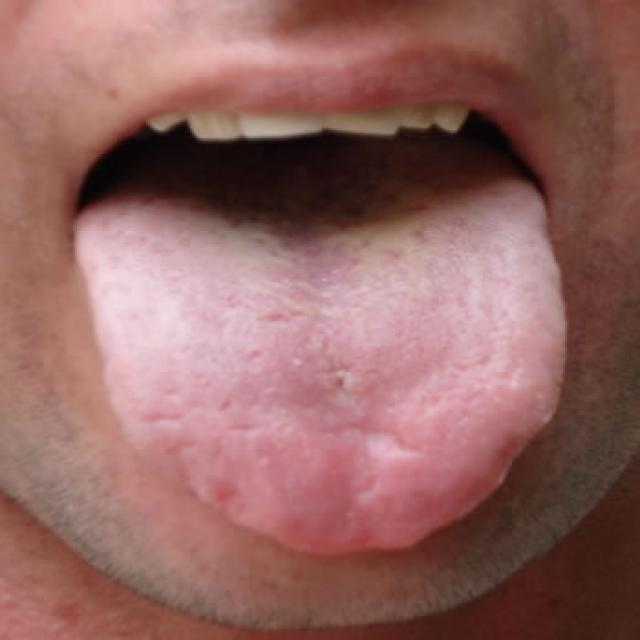baitaishe: (73, 190, 568, 556)
pangdashe: (73, 189, 568, 555)
